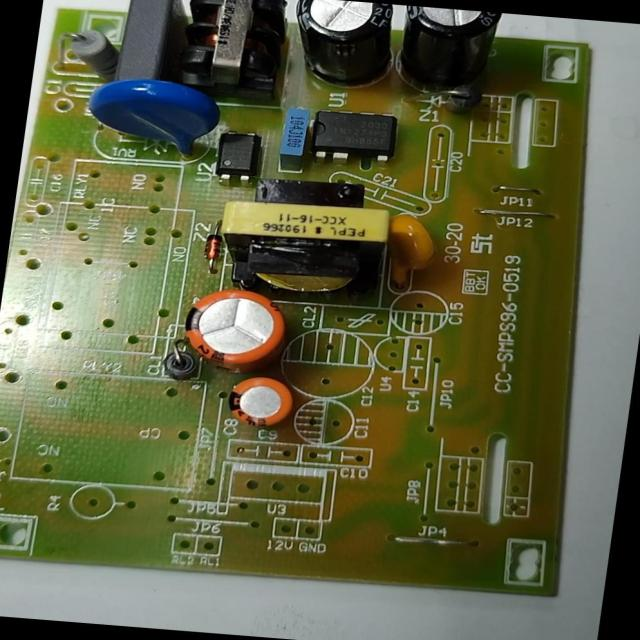Cap1: (178, 282, 290, 370)
Cap2: (223, 372, 296, 430)
Cap3: (283, 0, 399, 92)
Cap4: (393, 5, 502, 96)
MOSFET: (306, 105, 402, 167)
Mov: (80, 72, 226, 164)
Resistor: (62, 21, 120, 76)
Transformer: (210, 174, 402, 304), (175, 0, 289, 94)
